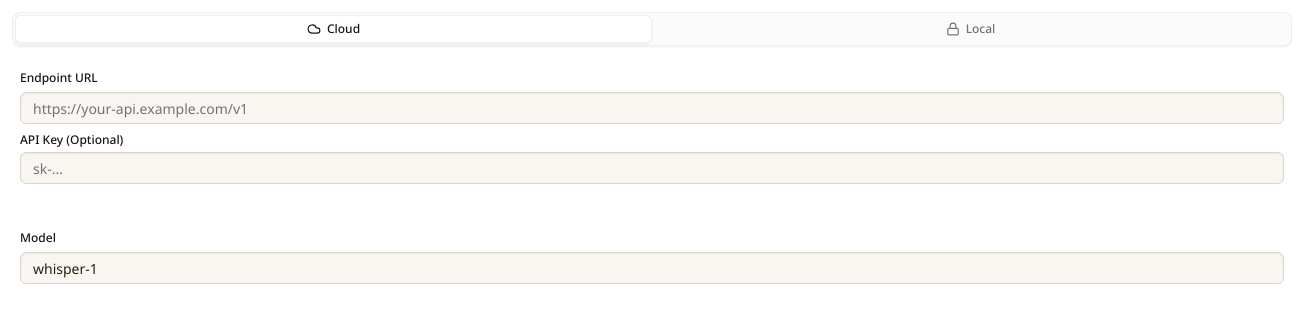
Test: TranscriptionModelPicker custom endpoint approval › preserves first-use invalid input and shows actionable feedback
Type "http://remote.example/v1" into the field labelled "Endpoint URL" at (652, 108), box 20,92 -> 1284,124
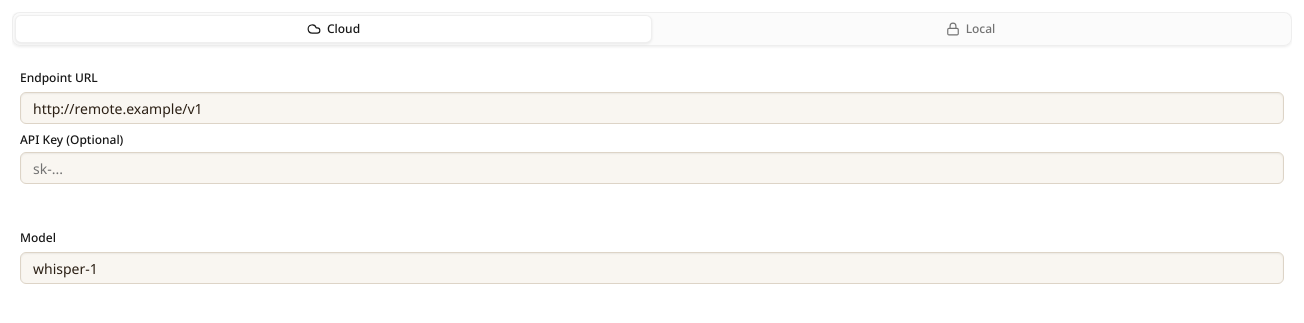
Leave the field labelled "Endpoint URL", box 20,92 -> 1284,124
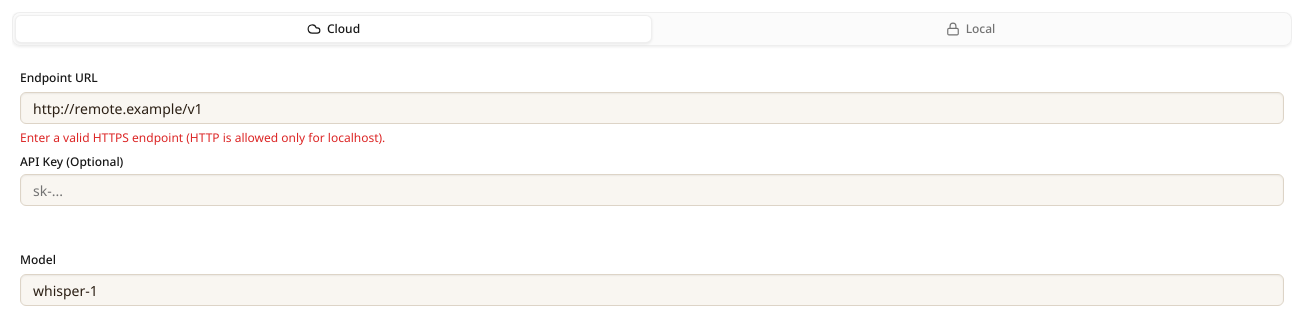
Check: the message shows "valid HTTPS endpoint", box 20,129 -> 385,146
